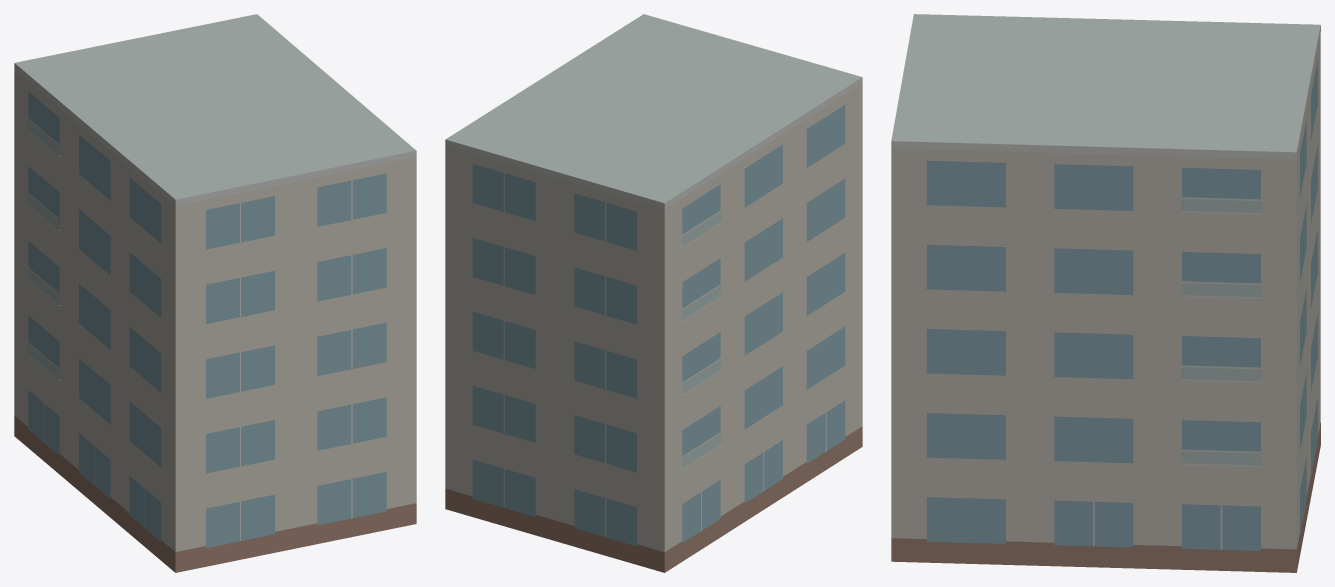
File: survey-upis-32711437.glb
The picture shows the model from 3 angles, left to right: view 1: azimuth 30°, elevation 25°; view 2: azimuth 150°, elevation 25°; view 3: azimuth 270°, elevation 25°; orthographic projection. The views are drawn at different scales.
Parts seen in each view (by area): view 1: survey-upis-32711437.tmp; view 2: survey-upis-32711437.tmp; view 3: survey-upis-32711437.tmp.
Part boxes in pixels (left/top/right/bottom): survey-upis-32711437.tmp: left=14, top=14, right=416, bottom=572; survey-upis-32711437.tmp: left=445, top=14, right=862, bottom=572; survey-upis-32711437.tmp: left=891, top=14, right=1320, bottom=572.
Bounding box in the file's own units: 10.16 × 14.4 × 13.34.
